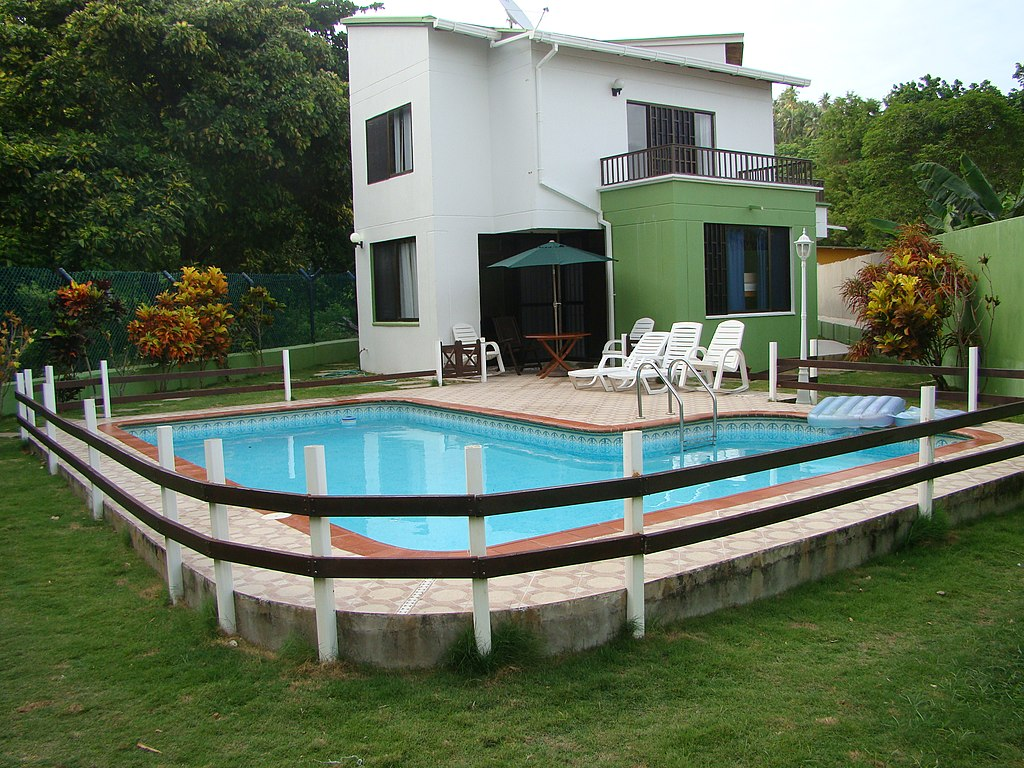House: (338, 12, 816, 368)
